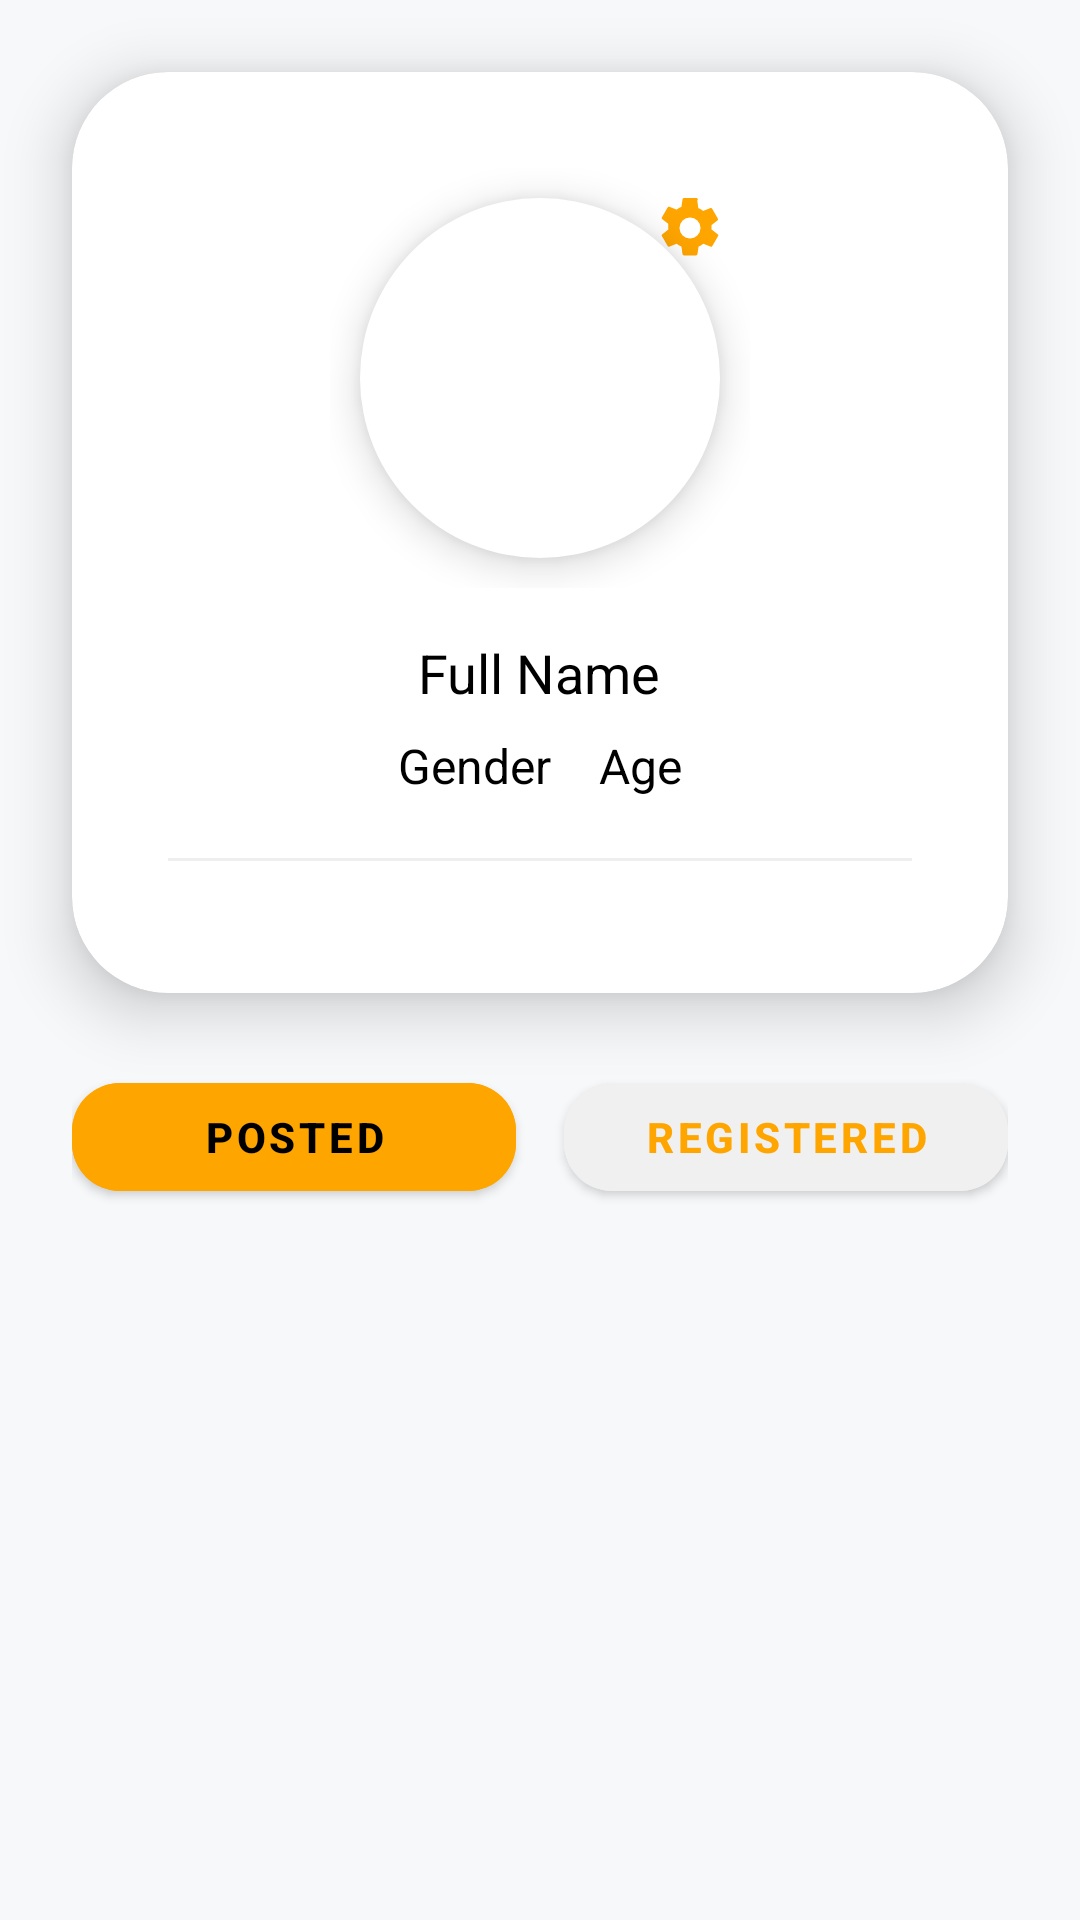

Locate icon controls on the screen. Image size 1080*1920, boxes as (x1, y1, x2, y2).
Settings: (661, 198, 719, 256)
